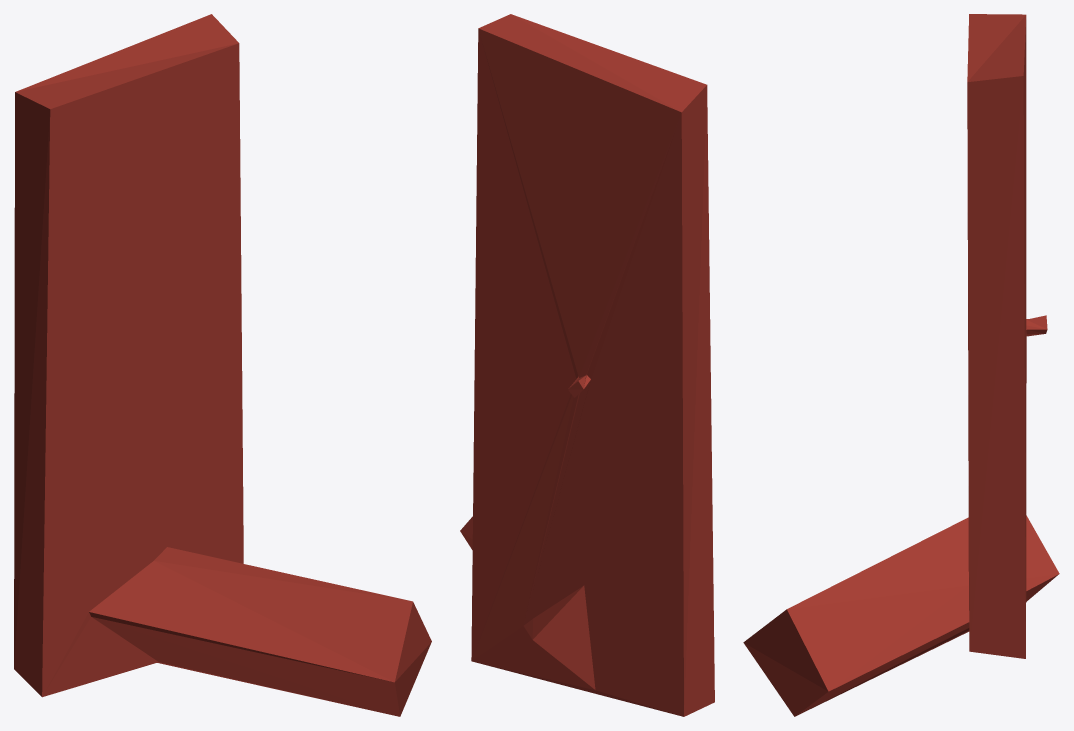
The picture shows the model from 3 angles, left to right: view 1: azimuth 30°, elevation 25°; view 2: azimuth 150°, elevation 25°; view 3: azimuth 270°, elevation 25°; orthographic projection. The views are drawn at different scales.
Parts seen in each view (by area): view 1: 962_Cube.3892; view 2: 962_Cube.3892; view 3: 962_Cube.3892.
Part boxes in pixels (left/top/right/bottom): 962_Cube.3892: left=14, top=14, right=431, bottom=716; 962_Cube.3892: left=460, top=14, right=714, bottom=716; 962_Cube.3892: left=743, top=14, right=1059, bottom=716.
Size of the model in its own units: 6.81 by 13.01 by 6.13.
